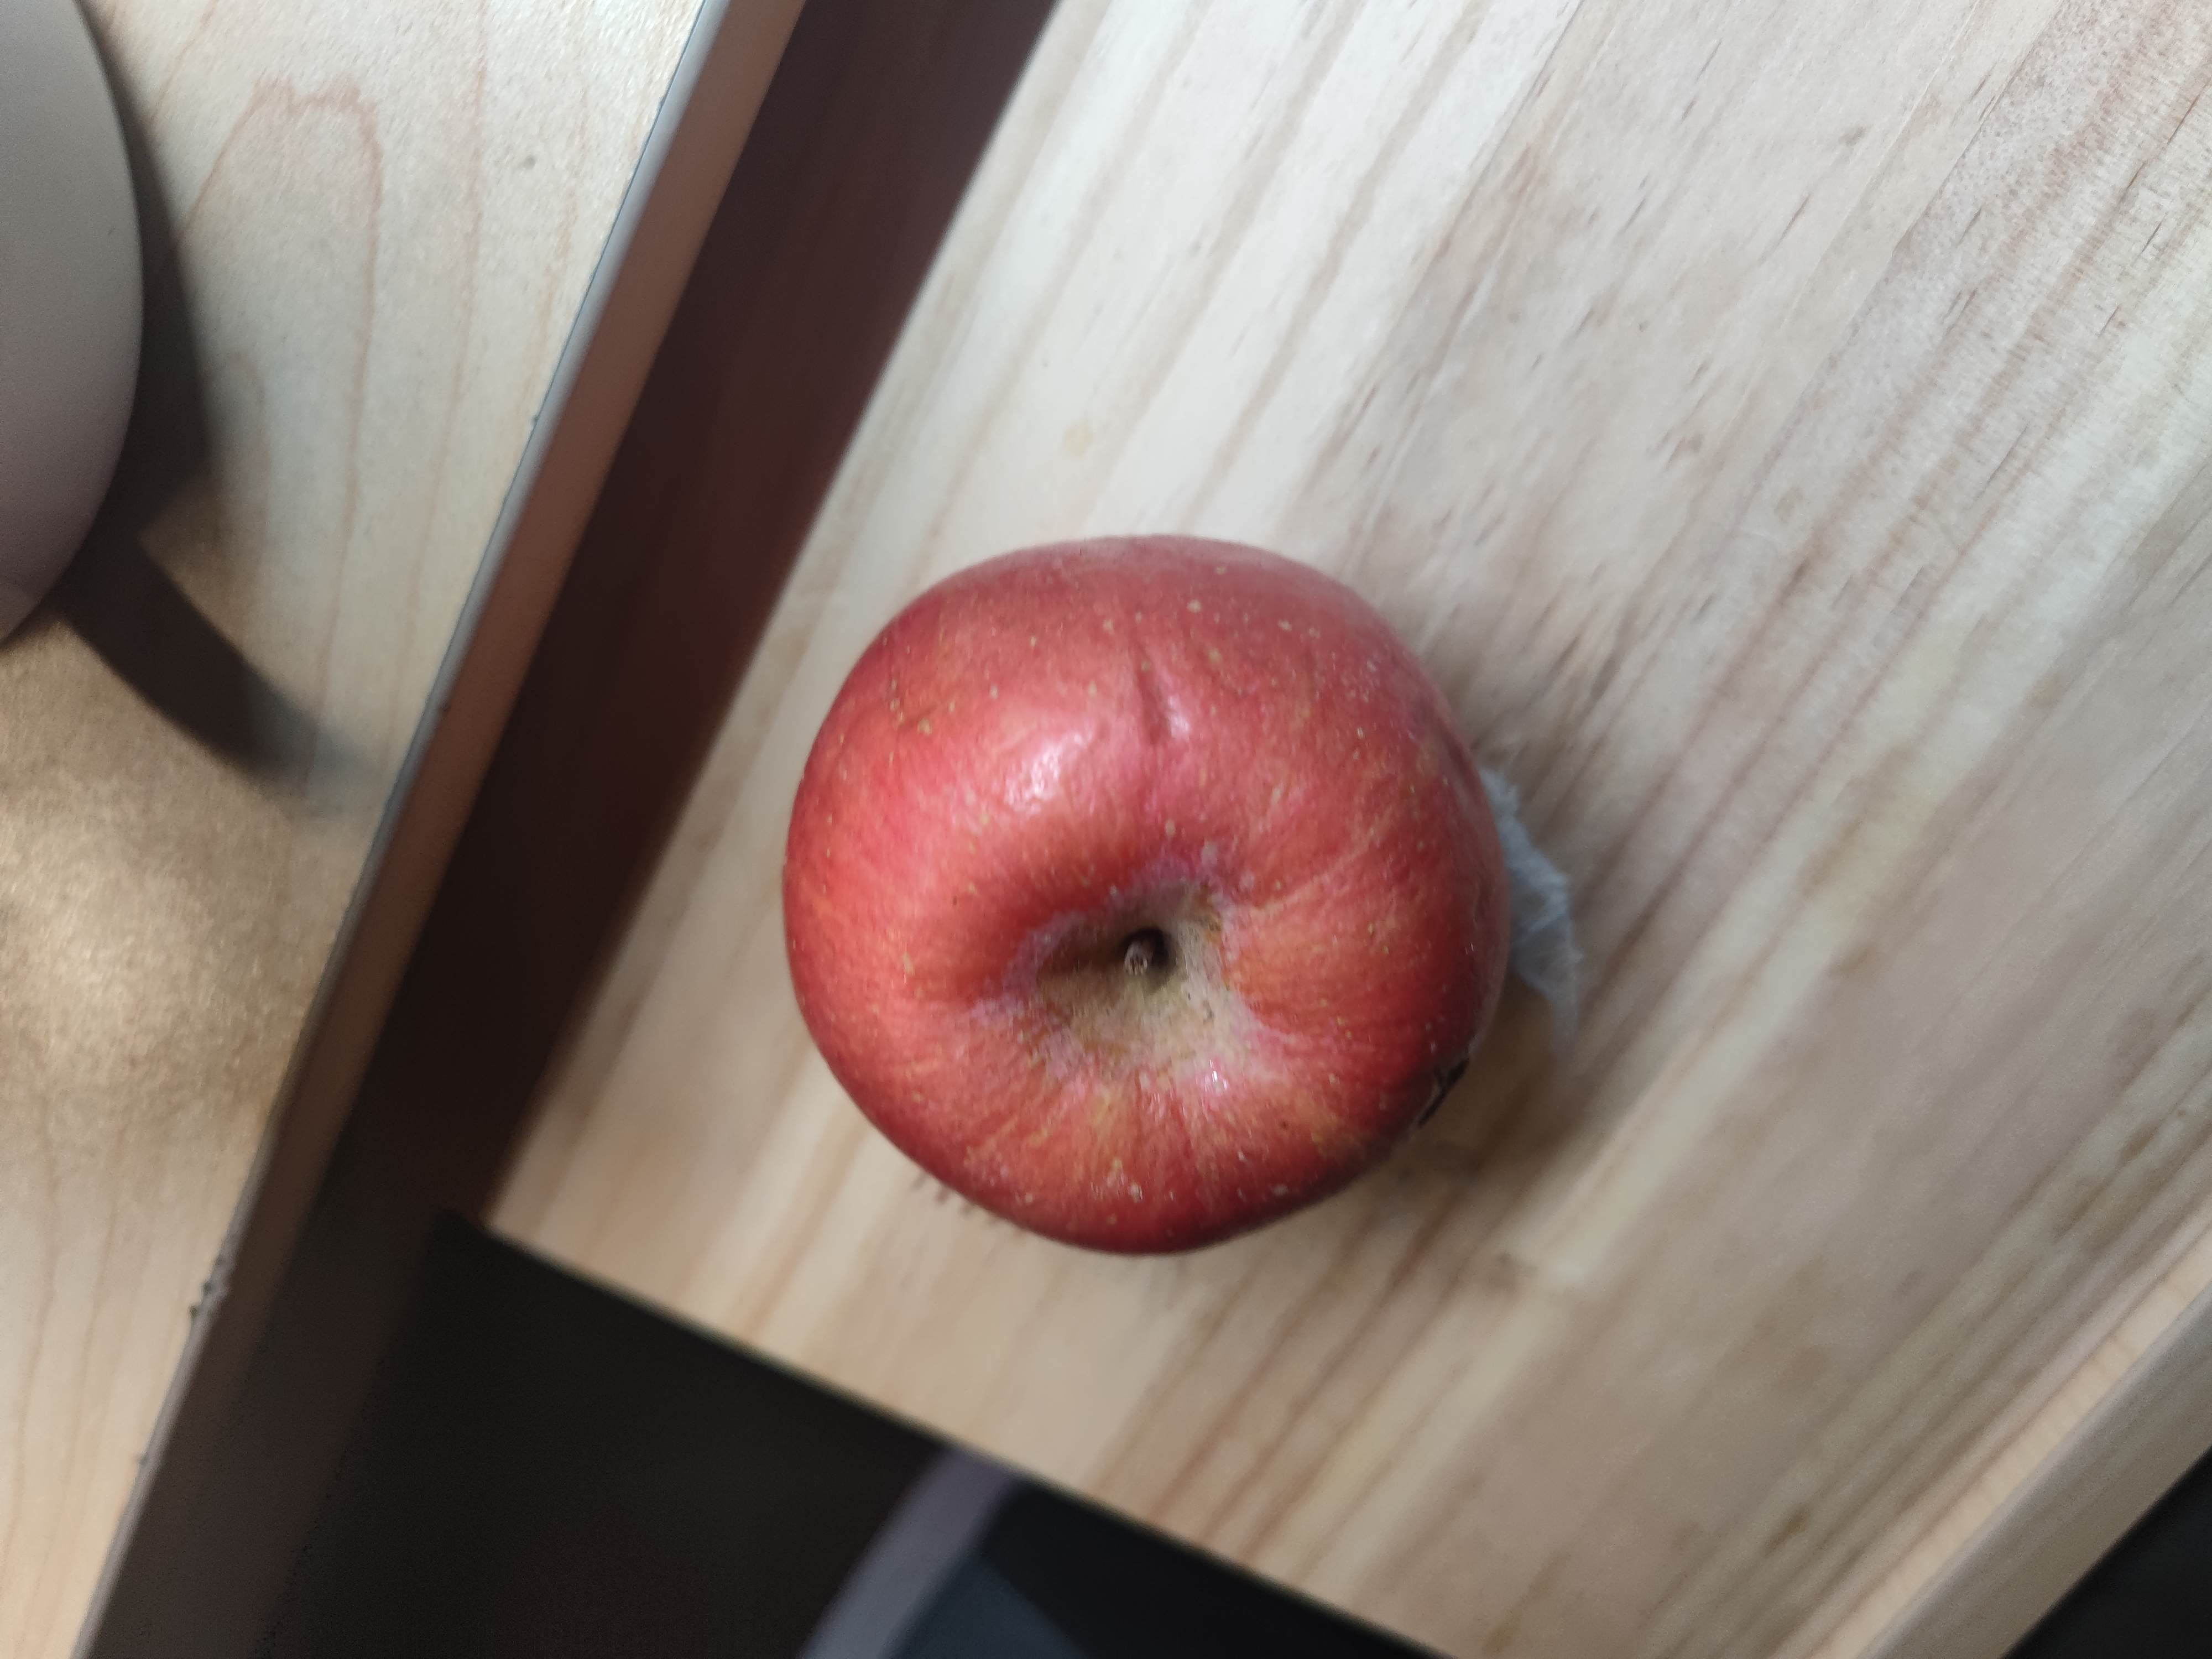apple: (780, 514, 1538, 1270)
